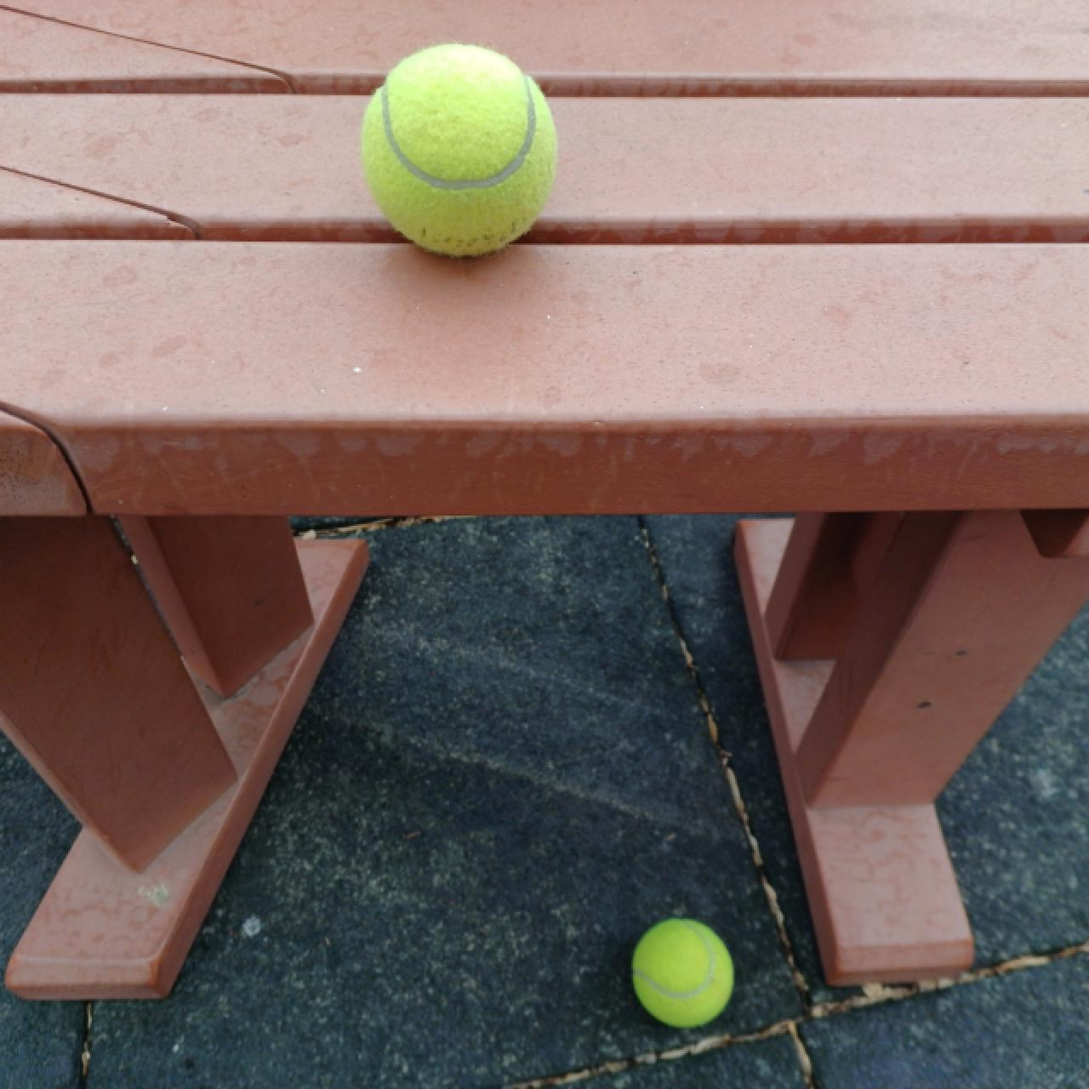tennis-ball: (365, 44, 555, 258), (631, 917, 733, 1030)
